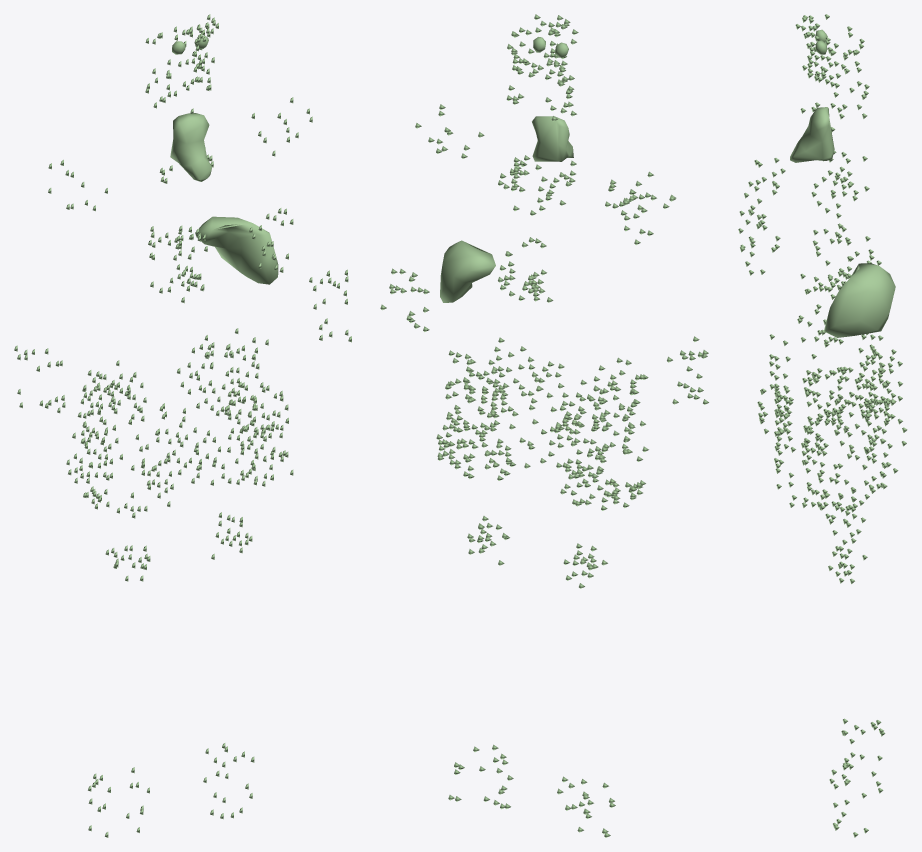
File: pediatric_child_10y_male.lymphatic.LOD3.glb
The picture shows the model from 3 angles, left to right: view 1: azimuth 30°, elevation 25°; view 2: azimuth 150°, elevation 25°; view 3: azimuth 270°, elevation 25°; orthographic projection. The views are drawn at different scales.
Visible parts, largest first — view 1: PEDIATRIC.CHILD_10Y.MALE.LYMPHATIC.LYMPHATIC_NODES_TRUNK, PEDIATRIC.CHILD_10Y.MALE.LYMPHATIC.SPLEEN, PEDIATRIC.CHILD_10Y.MALE.LYMPHATIC.THYMUS, PEDIATRIC.CHILD_10Y.MALE.LYMPHATIC.LYMPHATIC_NODES_ET, PEDIATRIC.CHILD_10Y.MALE.LYMPHATIC.LYMPHATIC_NODES_ARMS, PEDIATRIC.CHILD_10Y.MALE.LYMPHATIC.LYMPHATIC_NODES_LEGS, PEDIATRIC.CHILD_10Y.MALE.LYMPHATIC.LYMPHATIC_NODES_THORACIC; view 2: PEDIATRIC.CHILD_10Y.MALE.LYMPHATIC.LYMPHATIC_NODES_TRUNK, PEDIATRIC.CHILD_10Y.MALE.LYMPHATIC.SPLEEN, PEDIATRIC.CHILD_10Y.MALE.LYMPHATIC.THYMUS, PEDIATRIC.CHILD_10Y.MALE.LYMPHATIC.LYMPHATIC_NODES_ET, PEDIATRIC.CHILD_10Y.MALE.LYMPHATIC.LYMPHATIC_NODES_THORACIC, PEDIATRIC.CHILD_10Y.MALE.LYMPHATIC.LYMPHATIC_NODES_LEGS, PEDIATRIC.CHILD_10Y.MALE.LYMPHATIC.LYMPHATIC_NODES_ARMS; view 3: PEDIATRIC.CHILD_10Y.MALE.LYMPHATIC.LYMPHATIC_NODES_TRUNK, PEDIATRIC.CHILD_10Y.MALE.LYMPHATIC.SPLEEN, PEDIATRIC.CHILD_10Y.MALE.LYMPHATIC.THYMUS, PEDIATRIC.CHILD_10Y.MALE.LYMPHATIC.LYMPHATIC_NODES_ET, PEDIATRIC.CHILD_10Y.MALE.LYMPHATIC.LYMPHATIC_NODES_THORACIC, PEDIATRIC.CHILD_10Y.MALE.LYMPHATIC.LYMPHATIC_NODES_ARMS, PEDIATRIC.CHILD_10Y.MALE.LYMPHATIC.LYMPHATIC_NODES_LEGS, PEDIATRIC.CHILD_10Y.MALE.LYMPHATIC.LYMPHATIC_NODES_HEAD.
Boxes of the visible parts, x1,y1,x2,y2 form: PEDIATRIC.CHILD_10Y.MALE.LYMPHATIC.LYMPHATIC_NODES_TRUNK: (48,97,312,581); PEDIATRIC.CHILD_10Y.MALE.LYMPHATIC.SPLEEN: (195,216,278,284); PEDIATRIC.CHILD_10Y.MALE.LYMPHATIC.THYMUS: (170,113,212,181); PEDIATRIC.CHILD_10Y.MALE.LYMPHATIC.LYMPHATIC_NODES_ET: (145,14,218,84); PEDIATRIC.CHILD_10Y.MALE.LYMPHATIC.LYMPHATIC_NODES_ARMS: (14,269,351,413); PEDIATRIC.CHILD_10Y.MALE.LYMPHATIC.LYMPHATIC_NODES_LEGS: (88,743,254,837); PEDIATRIC.CHILD_10Y.MALE.LYMPHATIC.LYMPHATIC_NODES_THORACIC: (148,147,213,303); PEDIATRIC.CHILD_10Y.MALE.LYMPHATIC.LYMPHATIC_NODES_TRUNK: (415,104,676,588); PEDIATRIC.CHILD_10Y.MALE.LYMPHATIC.SPLEEN: (440,240,495,302); PEDIATRIC.CHILD_10Y.MALE.LYMPHATIC.THYMUS: (532,116,573,161); PEDIATRIC.CHILD_10Y.MALE.LYMPHATIC.LYMPHATIC_NODES_ET: (507,14,578,81); PEDIATRIC.CHILD_10Y.MALE.LYMPHATIC.LYMPHATIC_NODES_THORACIC: (498,155,576,302); PEDIATRIC.CHILD_10Y.MALE.LYMPHATIC.LYMPHATIC_NODES_LEGS: (448,744,615,837); PEDIATRIC.CHILD_10Y.MALE.LYMPHATIC.LYMPHATIC_NODES_ARMS: (380,268,708,404); PEDIATRIC.CHILD_10Y.MALE.LYMPHATIC.LYMPHATIC_NODES_TRUNK: (738,90,907,583); PEDIATRIC.CHILD_10Y.MALE.LYMPHATIC.SPLEEN: (824,263,895,337); PEDIATRIC.CHILD_10Y.MALE.LYMPHATIC.THYMUS: (790,107,834,162); PEDIATRIC.CHILD_10Y.MALE.LYMPHATIC.LYMPHATIC_NODES_ET: (795,14,864,82); PEDIATRIC.CHILD_10Y.MALE.LYMPHATIC.LYMPHATIC_NODES_THORACIC: (818,151,881,292); PEDIATRIC.CHILD_10Y.MALE.LYMPHATIC.LYMPHATIC_NODES_ARMS: (800,223,851,430); PEDIATRIC.CHILD_10Y.MALE.LYMPHATIC.LYMPHATIC_NODES_LEGS: (829,718,885,837); PEDIATRIC.CHILD_10Y.MALE.LYMPHATIC.LYMPHATIC_NODES_HEAD: (811,61,869,112).
Bounding box in the file's own units: 0.391 × 0.9176 × 0.1783.
